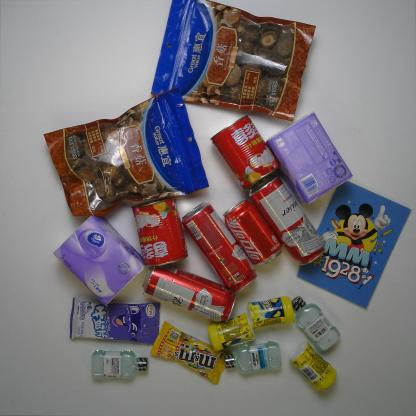Alcohol: (247, 172, 328, 266), (179, 200, 259, 295), (140, 259, 242, 325)
Candy: (66, 291, 162, 348)
Canned Food: (205, 112, 283, 192), (130, 194, 190, 270)
Chocolate: (146, 320, 234, 385)
Dried Food: (39, 88, 210, 216), (148, 0, 322, 123)
Drink: (221, 196, 290, 270)
Gum: (285, 338, 339, 394), (206, 312, 257, 354), (246, 295, 296, 333)
Personal Hygiene: (288, 295, 345, 357), (223, 338, 284, 377), (89, 346, 151, 382)
Stationery: (293, 175, 412, 311)
Tissue: (50, 211, 150, 311), (263, 109, 356, 207)
